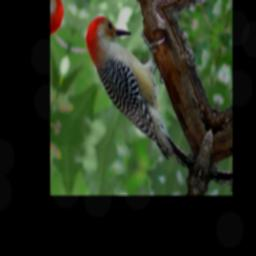Woodpecker: (64, 1, 219, 175)
